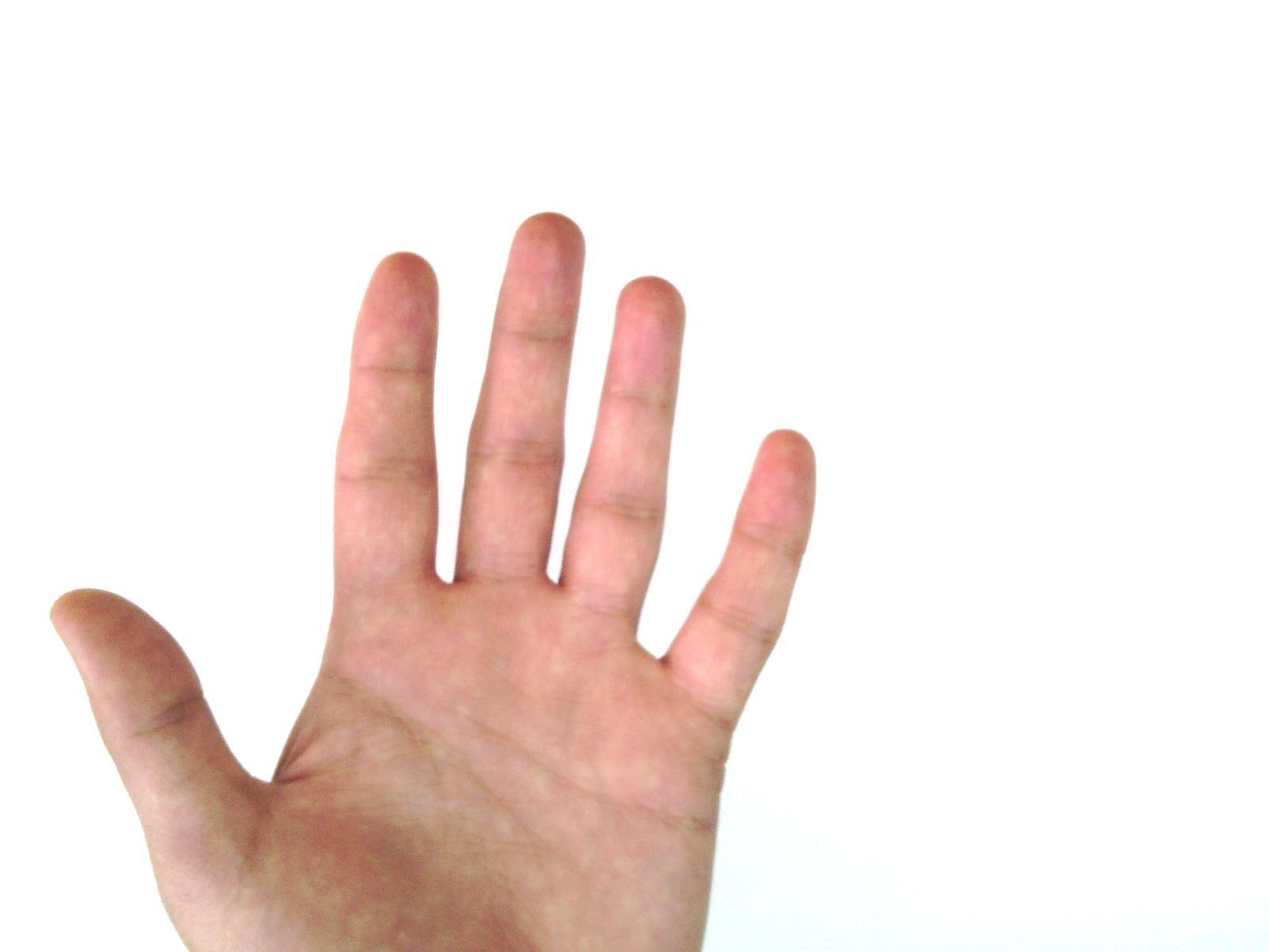open_palm: (50, 210, 821, 951)
